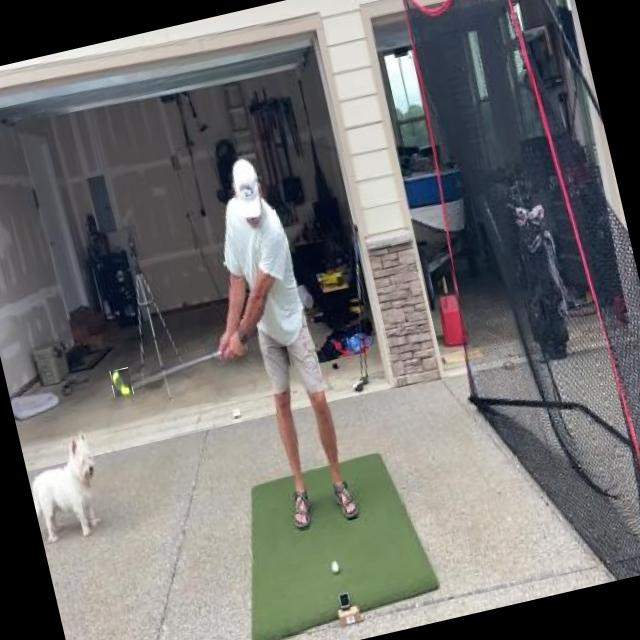club head: (109, 367, 134, 398)
